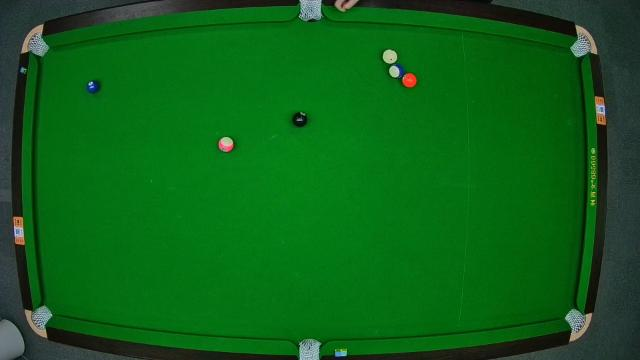bag1: (28, 33, 44, 53)
bag2: (301, 1, 321, 23)
bag3: (572, 36, 592, 56)
bag4: (33, 306, 51, 328)
bag5: (297, 342, 321, 360)
bag6: (566, 310, 586, 332)
ball0: (383, 49, 397, 64)
ball10: (388, 62, 404, 80)
ball12: (219, 136, 235, 154)
ball2: (86, 78, 102, 96)
ball5: (402, 72, 418, 90)
ball8: (292, 112, 308, 128)
